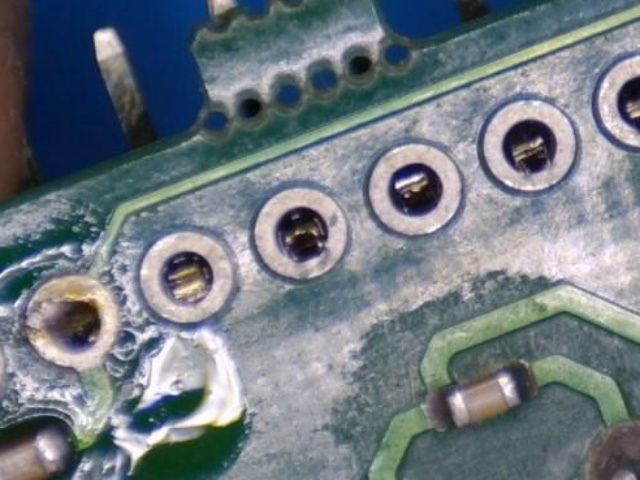pcb_defect: (25, 274, 116, 366)
